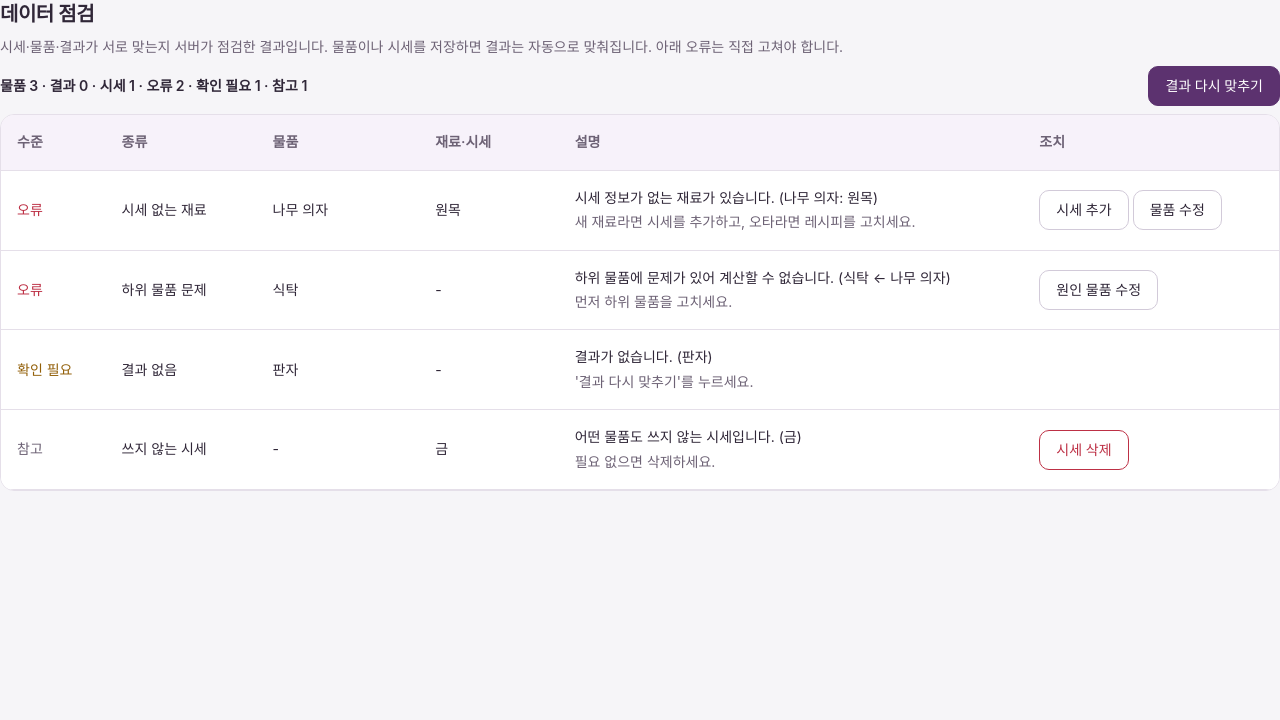
CatalogCheckPage › 시세 추가가 실패하면 알림창을 띄우고 시세 추가 창을 유지한다
Expected: the text "시세 정보가 없는 재료가 있습니다. (나무 의자: 원목)" is shown, [575,189,878,206]
Click the button "시세 추가": (1084, 210) [1039,190,1129,230]
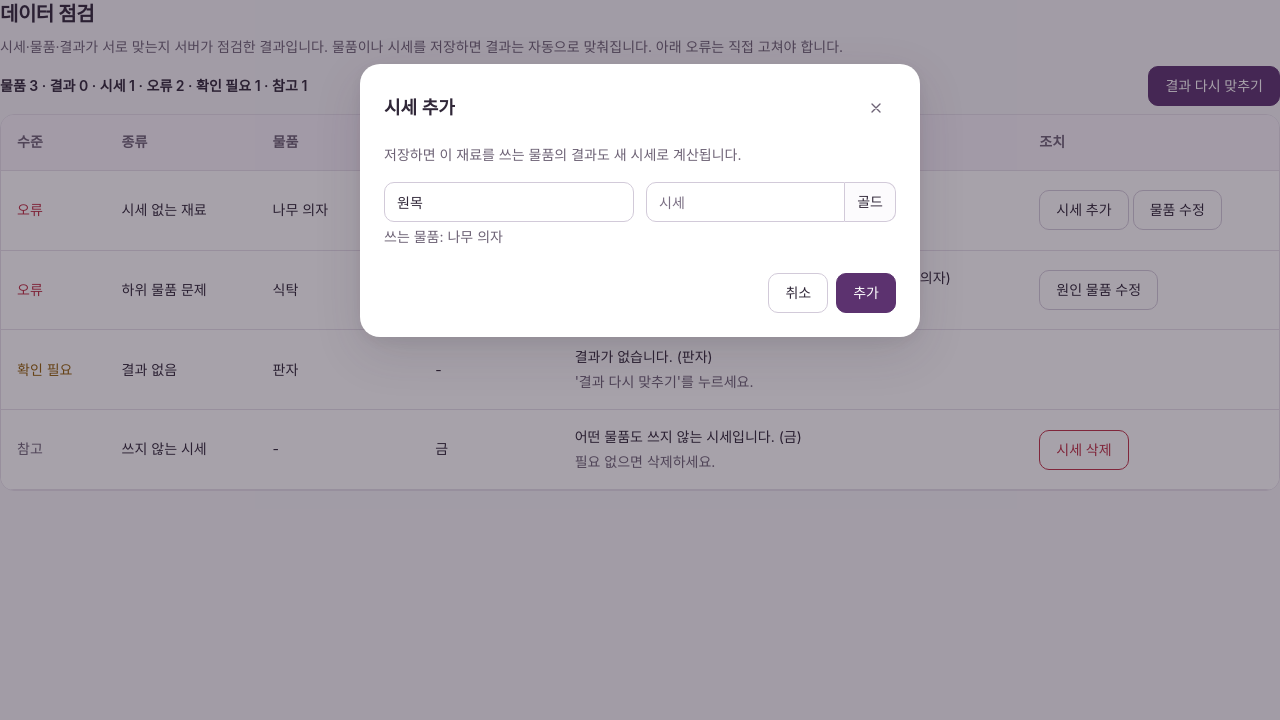
In the number field labelled "원목 시세": (746, 202) [659,183,832,221], type "700"
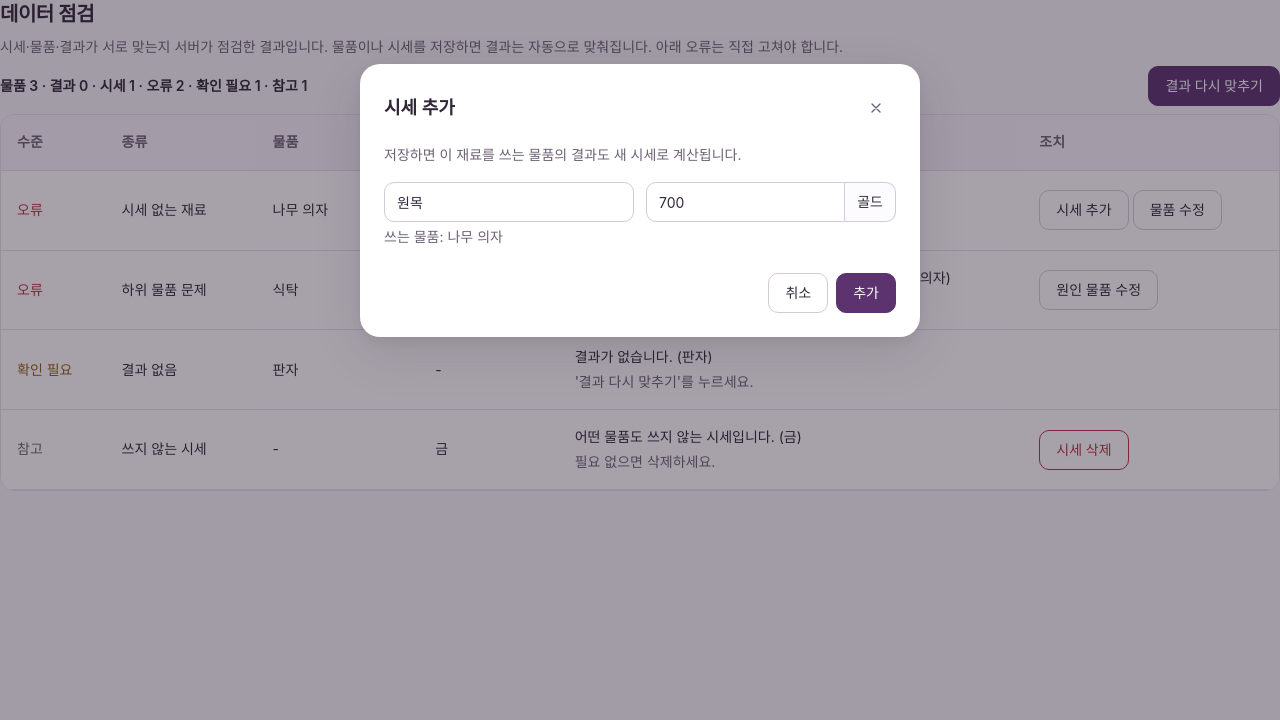
Click the button "추가": (866, 293) [836,273,896,313]
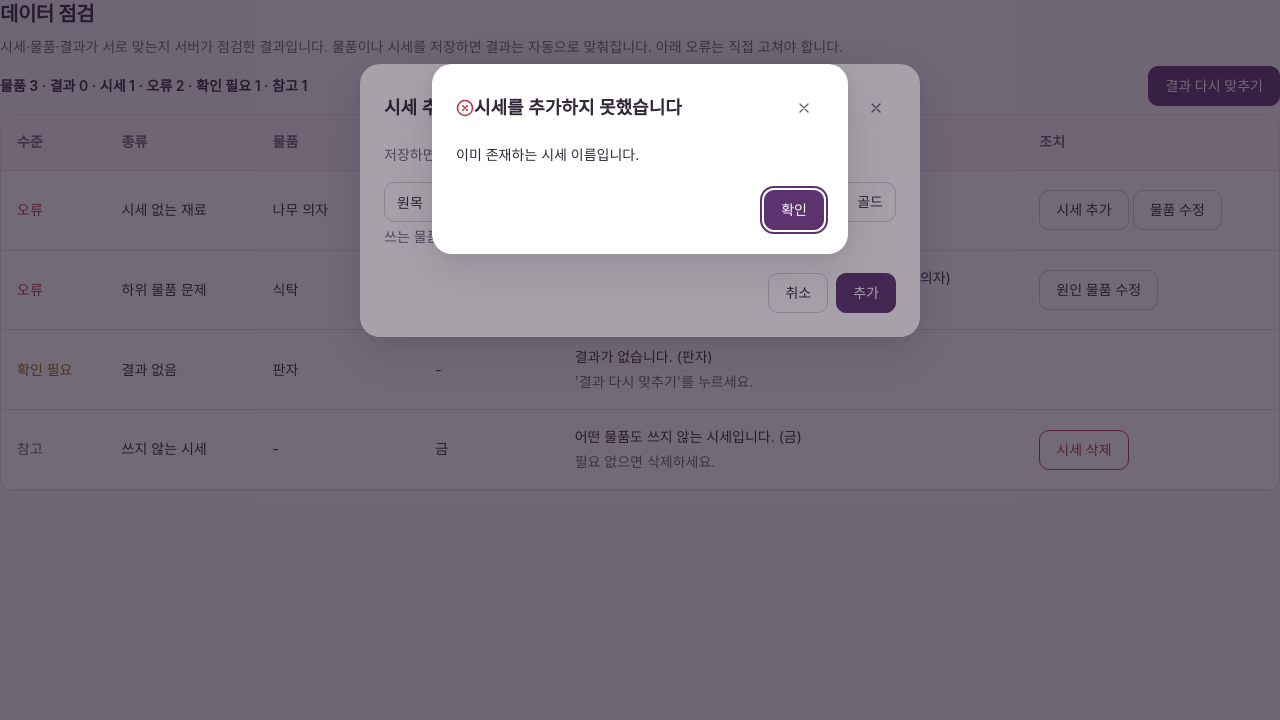
Expected: the dialog "시세 추가" is shown, [360,64,920,337]
Expected: the dialog "시세를 추가하지 못했습니다" shows "이미 존재하는 시세 이름입니다.", [456,146,639,163]
